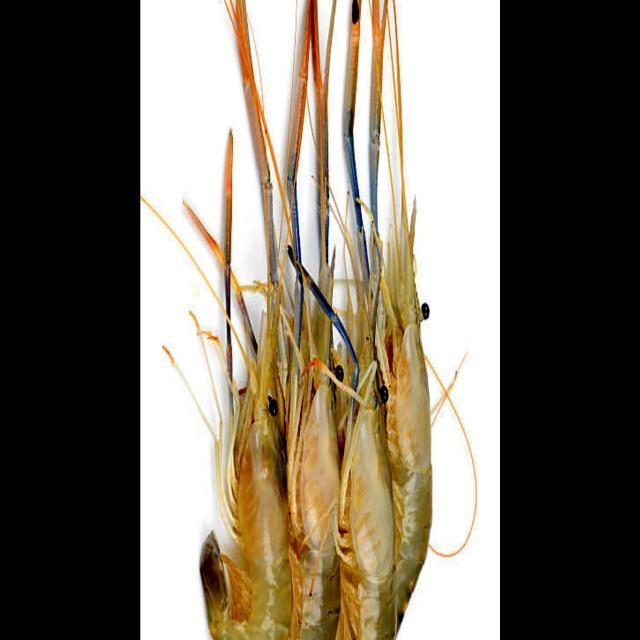shrimp: (201, 132, 291, 640), (375, 209, 431, 629), (279, 290, 340, 640), (335, 380, 397, 640)
